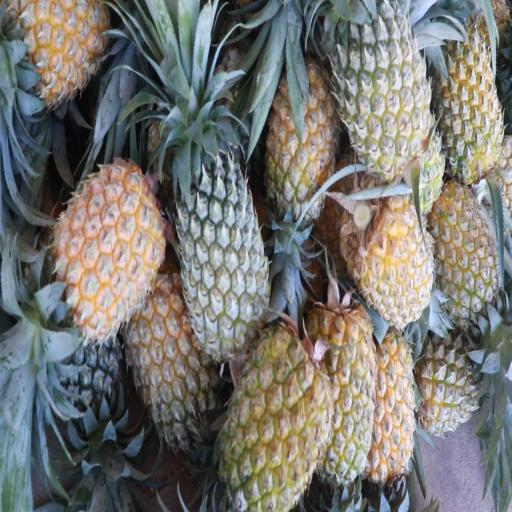------------------------------: (340, 7, 431, 176), (125, 279, 215, 438), (438, 27, 503, 183), (432, 188, 499, 321), (412, 331, 488, 440)
Pineapple - v8 v1: (226, 330, 333, 512), (58, 161, 160, 328), (260, 60, 336, 221), (307, 303, 375, 482), (361, 190, 435, 330), (6, 0, 106, 100), (367, 331, 415, 486)
